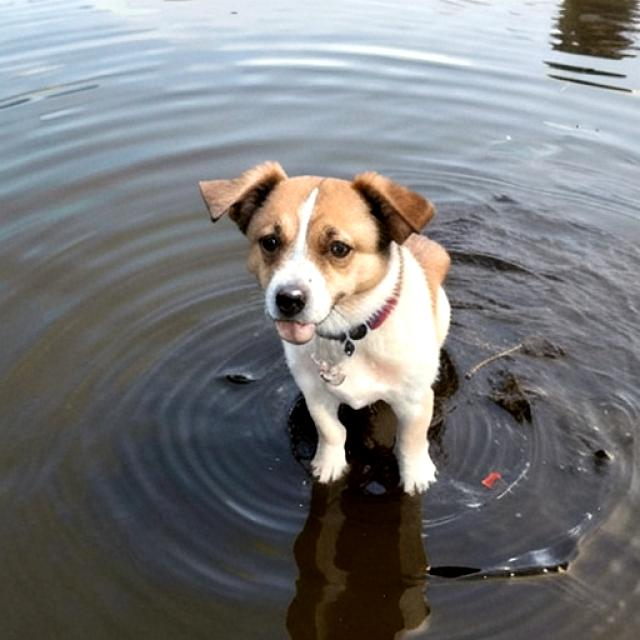dog: (190, 161, 497, 514)
